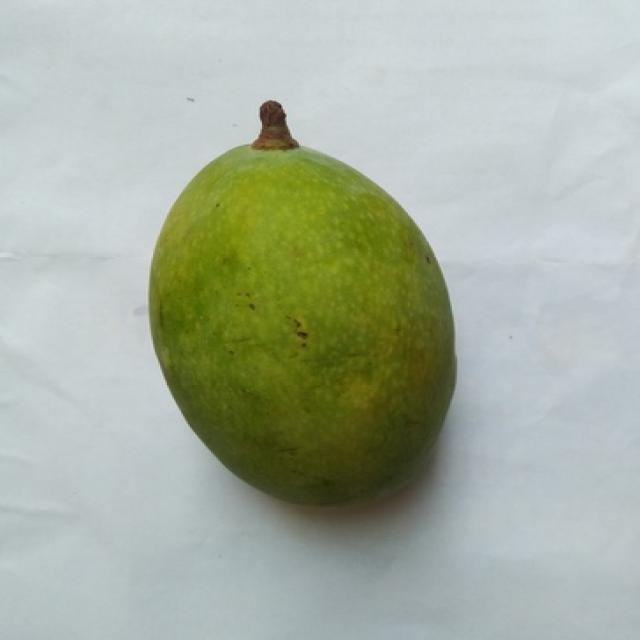Mango: (149, 143, 454, 504)
